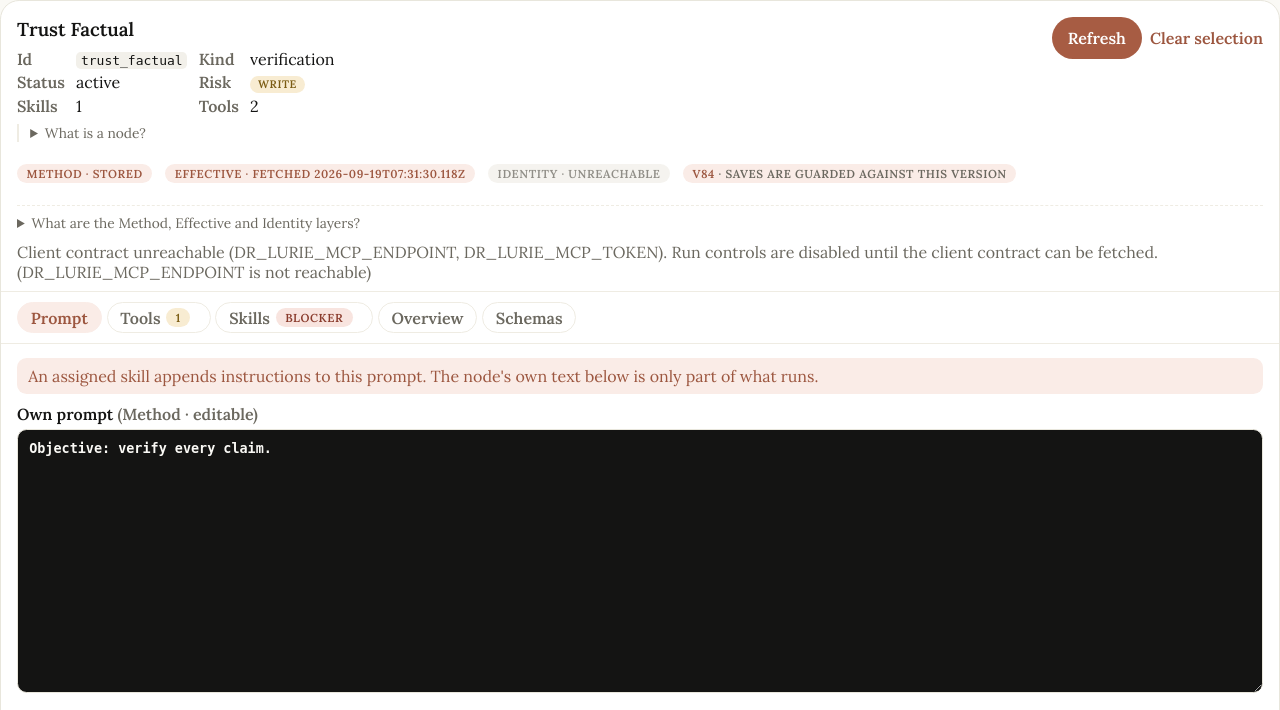
NodeInspector write path › shows a field-level diff once the prompt is edited
This screenshot has width=1280, height=710.
Expected: the text "An assigned skill appends" is shown, x1=28 y1=366 x2=818 y2=386
Type " Extra." into the text box labelled "Own prompt (Method · editable)" at (640, 561), box x1=17 y1=429 x2=1263 y2=693
(page scrolled)
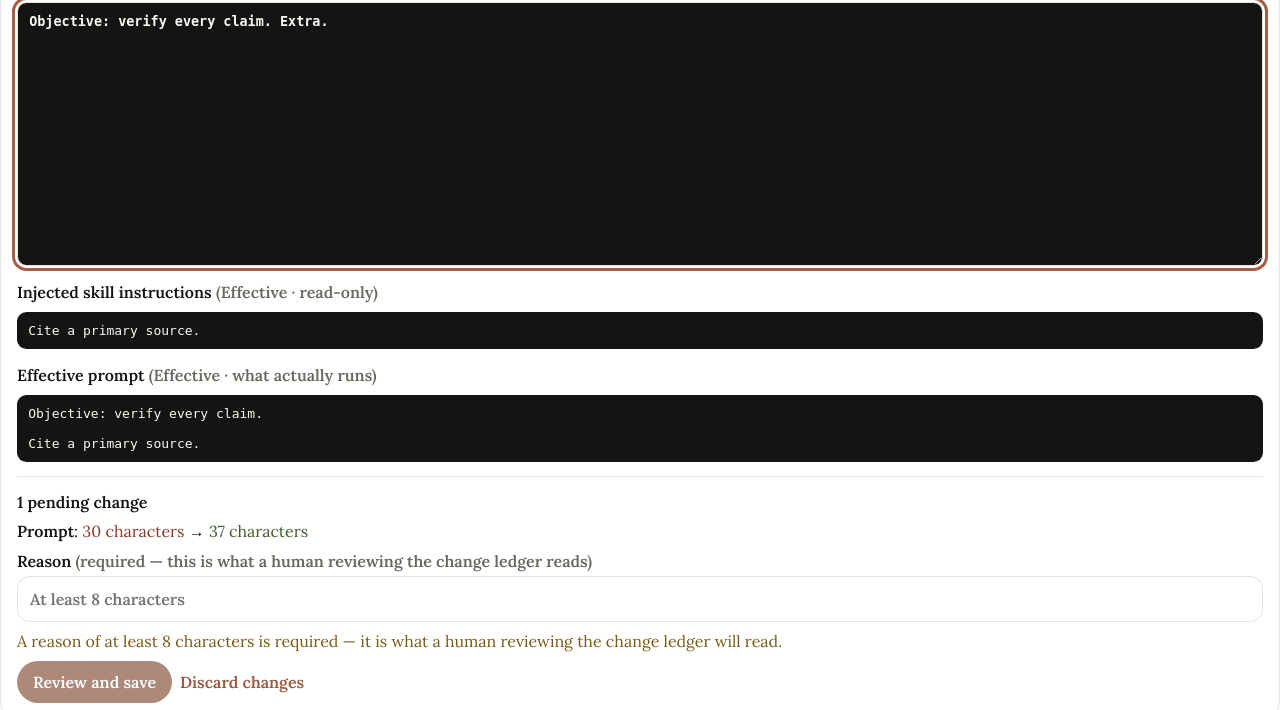
Expected: the heading "1 pending change" is shown, x1=17 y1=492 x2=148 y2=512
Expected: the text "Prompt" is shown, x1=17 y1=521 x2=74 y2=541
Expected: the text "30 characters" is shown, x1=82 y1=521 x2=184 y2=541
